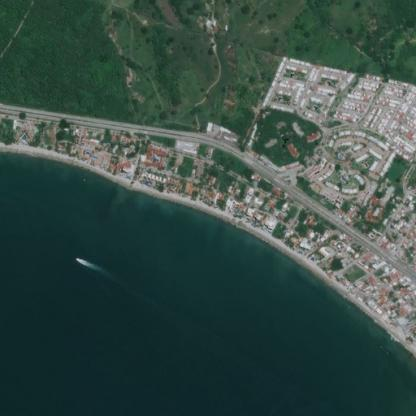ship: (75, 258, 78, 260)
